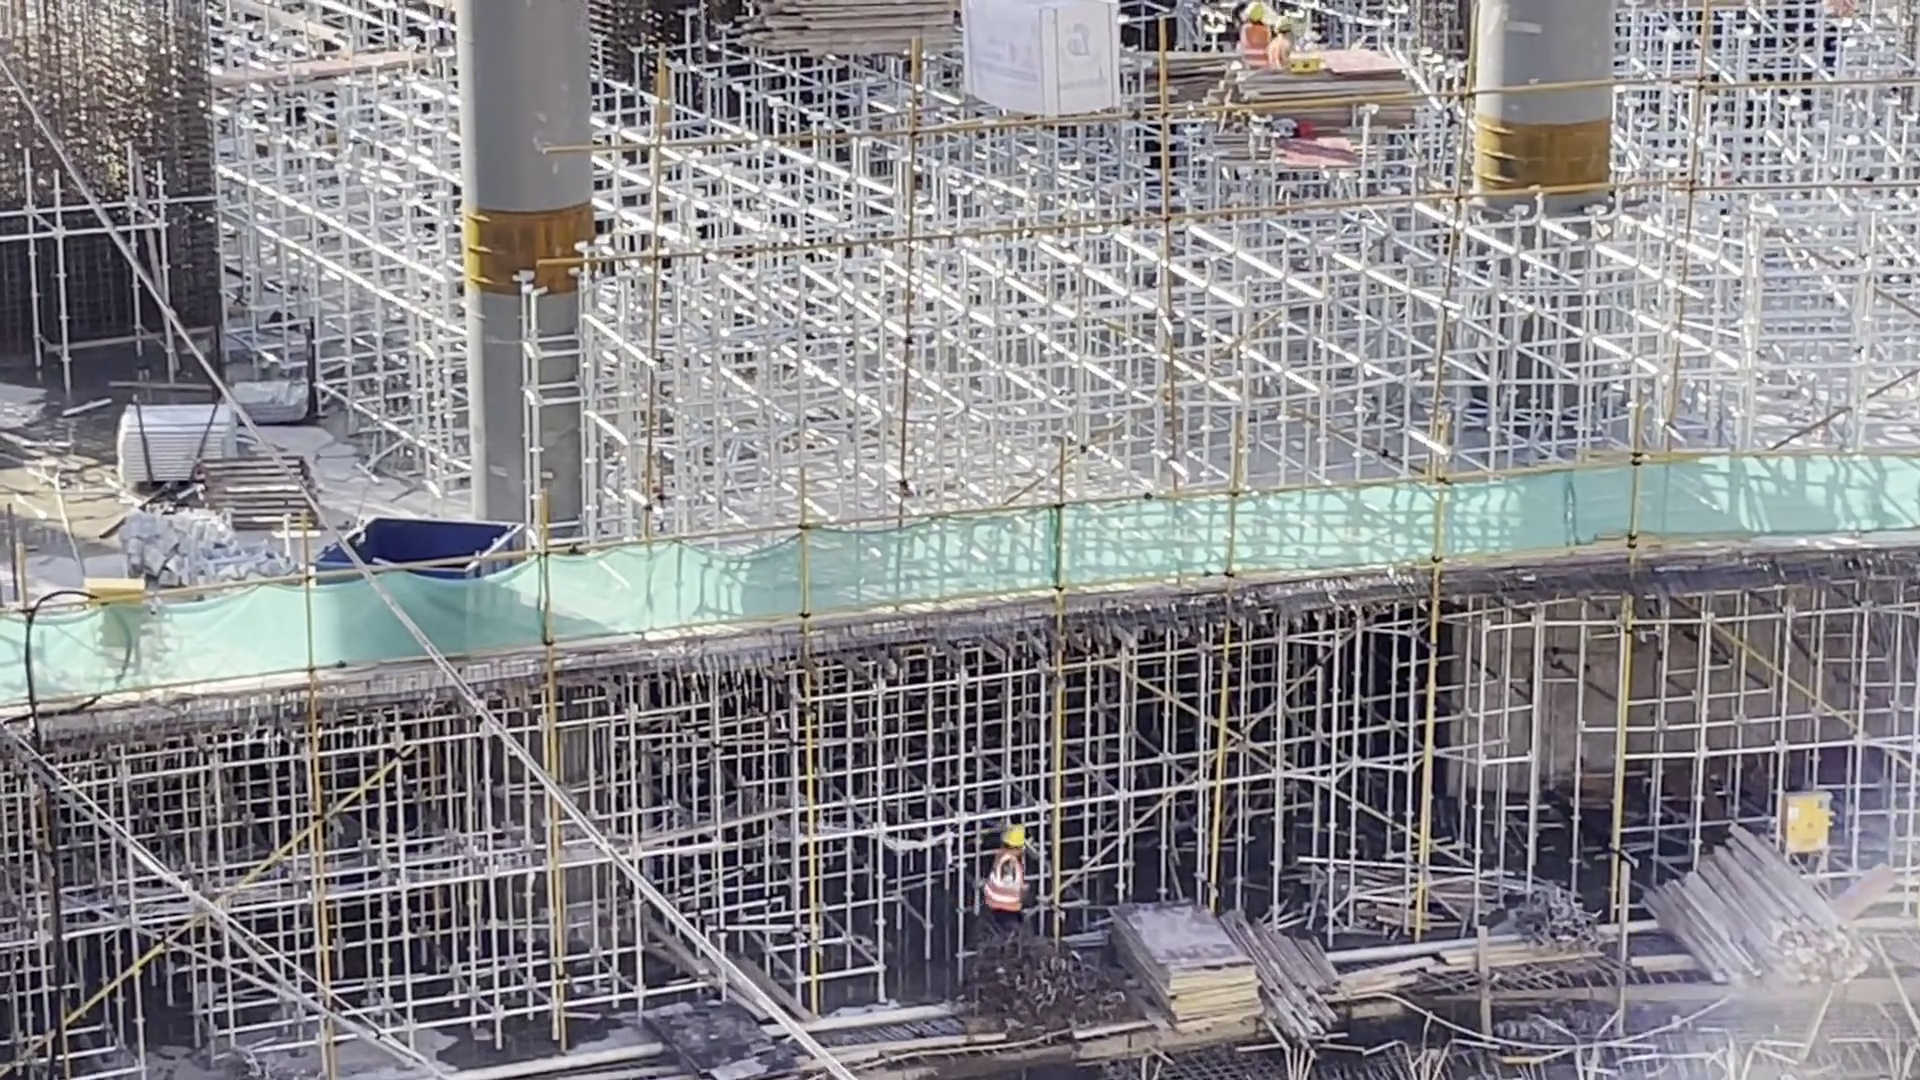board: (1103, 898, 1267, 1038), (1234, 48, 1418, 141)
ebox: (1778, 786, 1839, 867), (74, 574, 147, 600)
helmet: (1000, 826, 1028, 849), (1245, 9, 1264, 23), (1274, 17, 1291, 31)
hopper: (304, 516, 533, 552)
person: (981, 822, 1033, 932), (1241, 8, 1271, 71), (1265, 15, 1293, 70)
scaffold: (107, 404, 239, 463)
vest: (986, 853, 1028, 914), (1241, 25, 1272, 67)
wood: (1638, 817, 1884, 989), (721, 1, 959, 68), (1262, 924, 1345, 1050)
